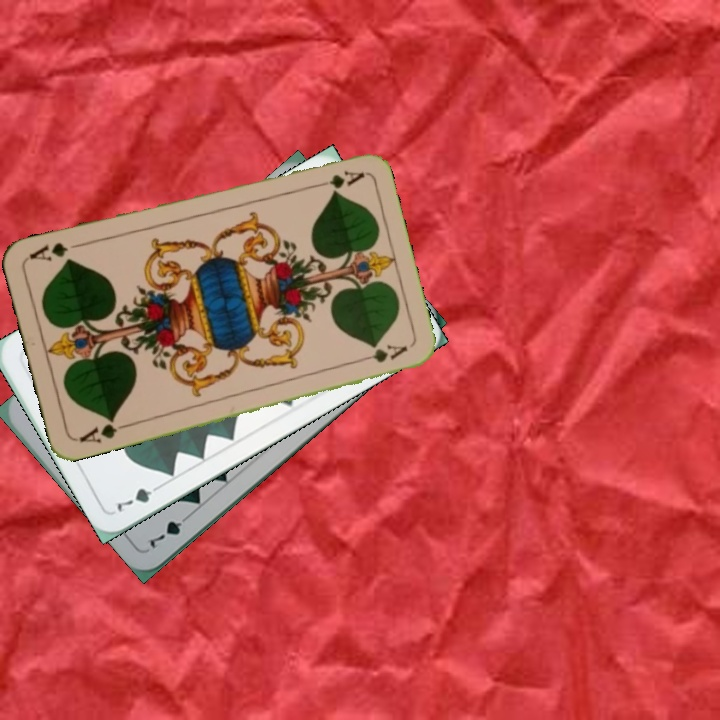G7: (145, 509, 195, 551), (112, 480, 166, 515)
GA: (75, 414, 132, 446), (307, 166, 366, 191)
